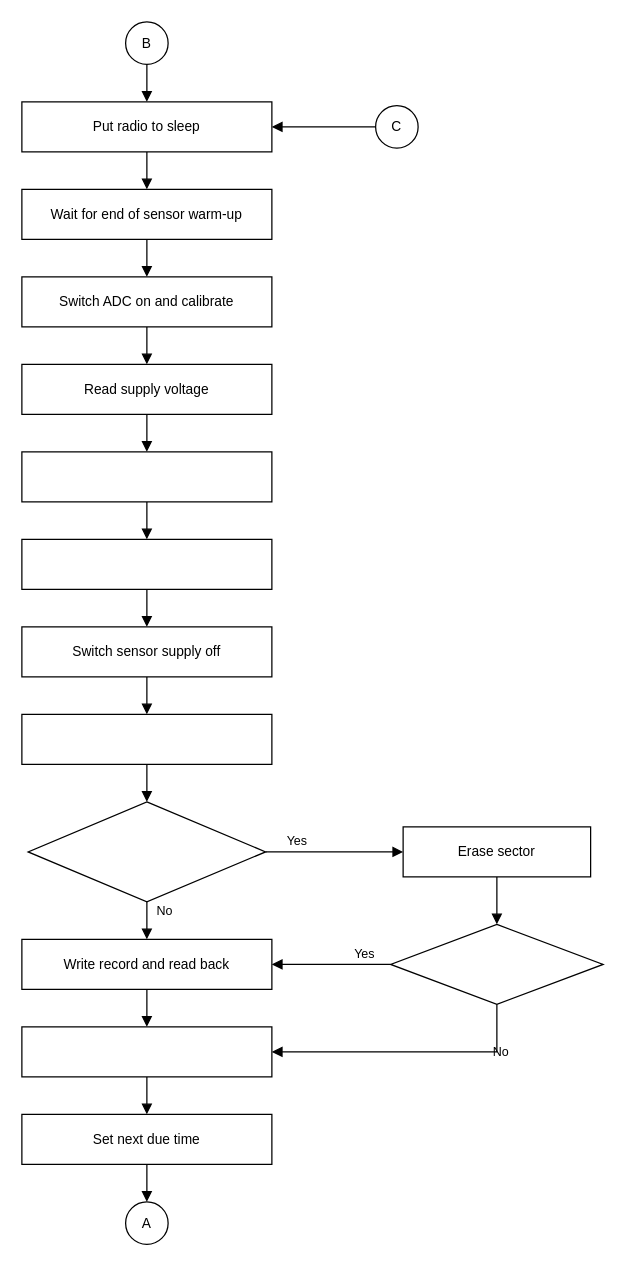
Some shapes in this 625 by 1266 pixel diagram are drawn without their labels. The centre of each missing label's shape, as x and y in pixels:
"Build record" goes at (x=146, y=738).
"Entering a used flash sector?" goes at (x=146, y=851).
"Erase succeeded?" goes at (x=496, y=963).
"Power down flash" goes at (x=146, y=1051).
"Read sensor" goes at (x=146, y=476).
"Switch ADC off" goes at (x=146, y=563).
